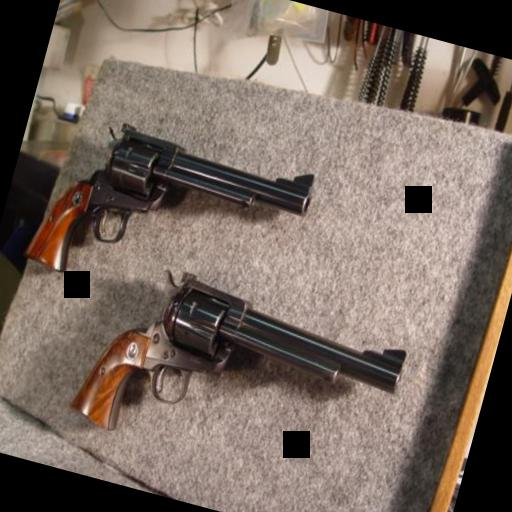Handgun: (66, 250, 414, 494), (16, 98, 320, 334)
